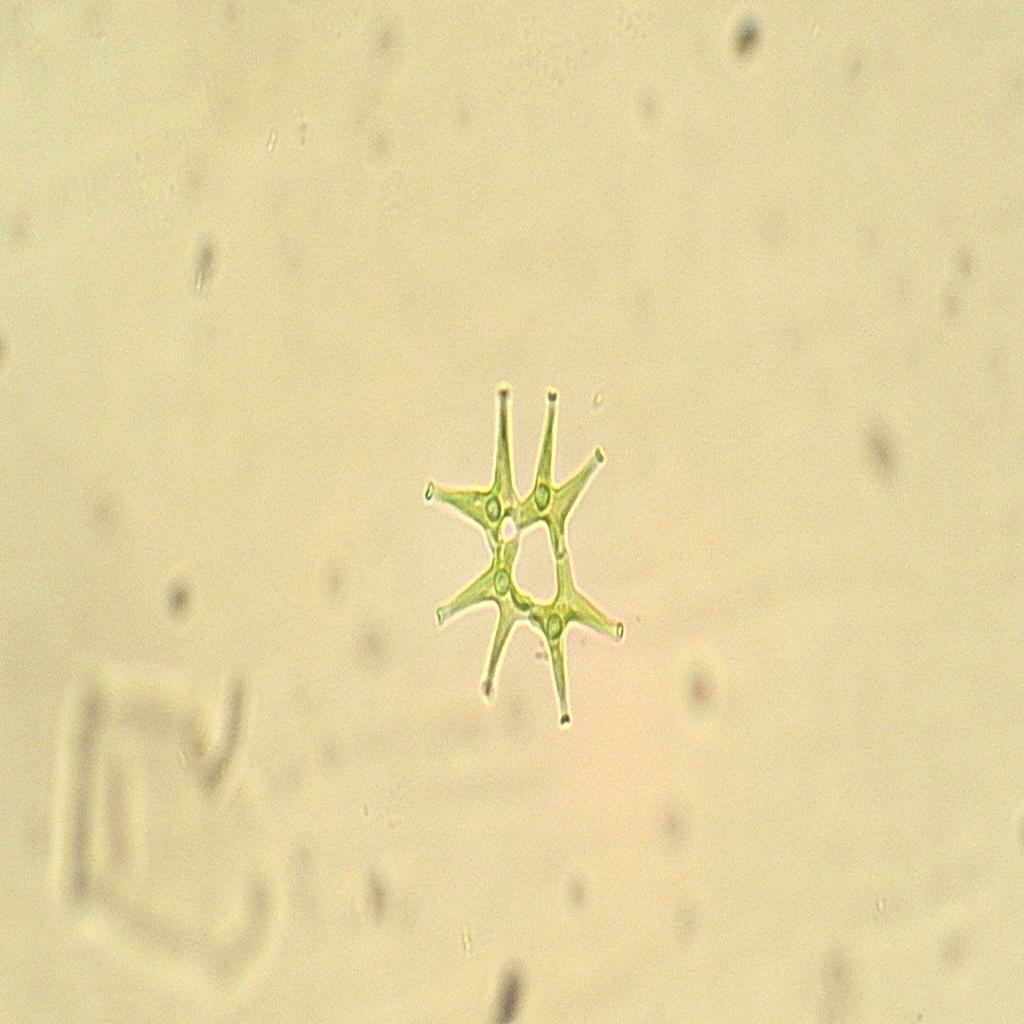Pediastrum_75FO: (416, 380, 642, 742)
